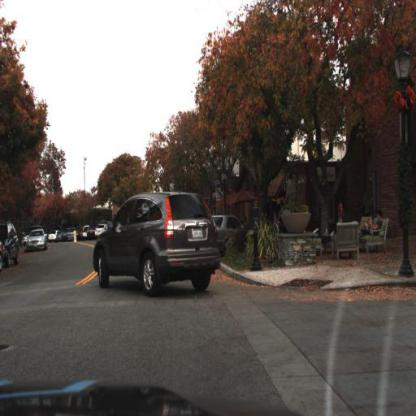car: (91, 180, 225, 300), (210, 214, 246, 248), (2, 224, 20, 268), (27, 229, 48, 252), (49, 231, 59, 244)
pedestrian: (358, 210, 385, 240), (336, 199, 347, 230), (364, 189, 374, 223)
